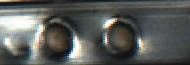joints: (30, 13, 79, 63), (99, 14, 145, 60)
